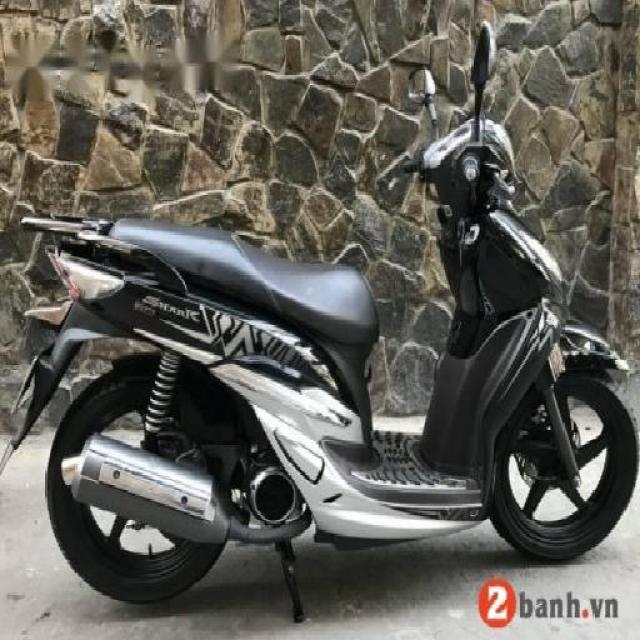All: (11, 23, 640, 605)
Head: (406, 113, 523, 214)
Tail: (22, 185, 128, 300)
